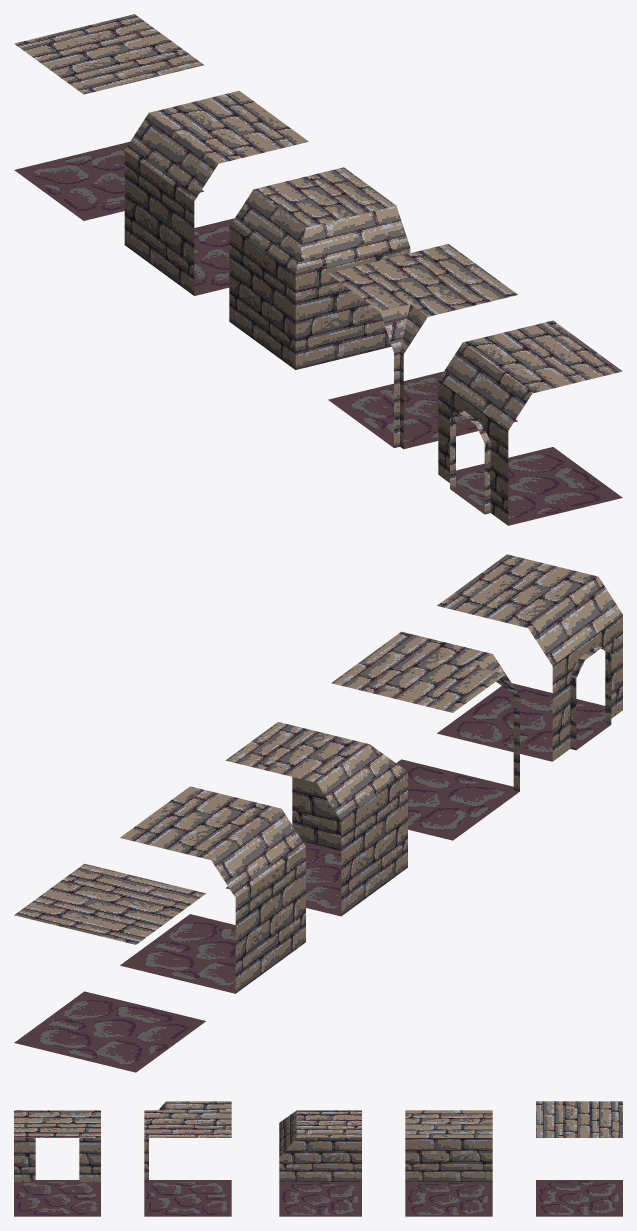
File: DungeonTilesPalette.glb
The picture shows the model from 3 angles, top to bottom: view 1: azimuth 30°, elevation 25°; view 2: azimuth 150°, elevation 25°; view 3: azimuth 270°, elevation 25°; orthographic projection. The views are drawn at different scales.
Visible parts, largest first — view 1: Corner-col, Doorway-col, Wall-col, Inner-col, Floor-col; view 2: Wall-col, Doorway-col, Corner-col, Floor-col, Inner-col; view 3: Wall-col, Corner-col, Doorway-col, Inner-col, Floor-col.
Boxes of the visible parts, left/top/right/bottom form: Corner-col: left=229, top=167, right=410, bottom=369; Doorway-col: left=438, top=320, right=622, bottom=525; Wall-col: left=124, top=90, right=308, bottom=295; Inner-col: left=328, top=244, right=517, bottom=449; Floor-col: left=14, top=14, right=204, bottom=220; Wall-col: left=120, top=786, right=305, bottom=993; Doorway-col: left=437, top=554, right=622, bottom=761; Corner-col: left=225, top=722, right=407, bottom=916; Floor-col: left=14, top=863, right=205, bottom=1072; Inner-col: left=331, top=631, right=519, bottom=840; Wall-col: left=405, top=1110, right=492, bottom=1216; Corner-col: left=279, top=1110, right=361, bottom=1216; Doorway-col: left=14, top=1110, right=100, bottom=1216; Inner-col: left=144, top=1101, right=231, bottom=1216; Floor-col: left=536, top=1101, right=622, bottom=1216.
Size of the model in its own units: 2 by 2 by 14.
3 materials, 3 textured.
